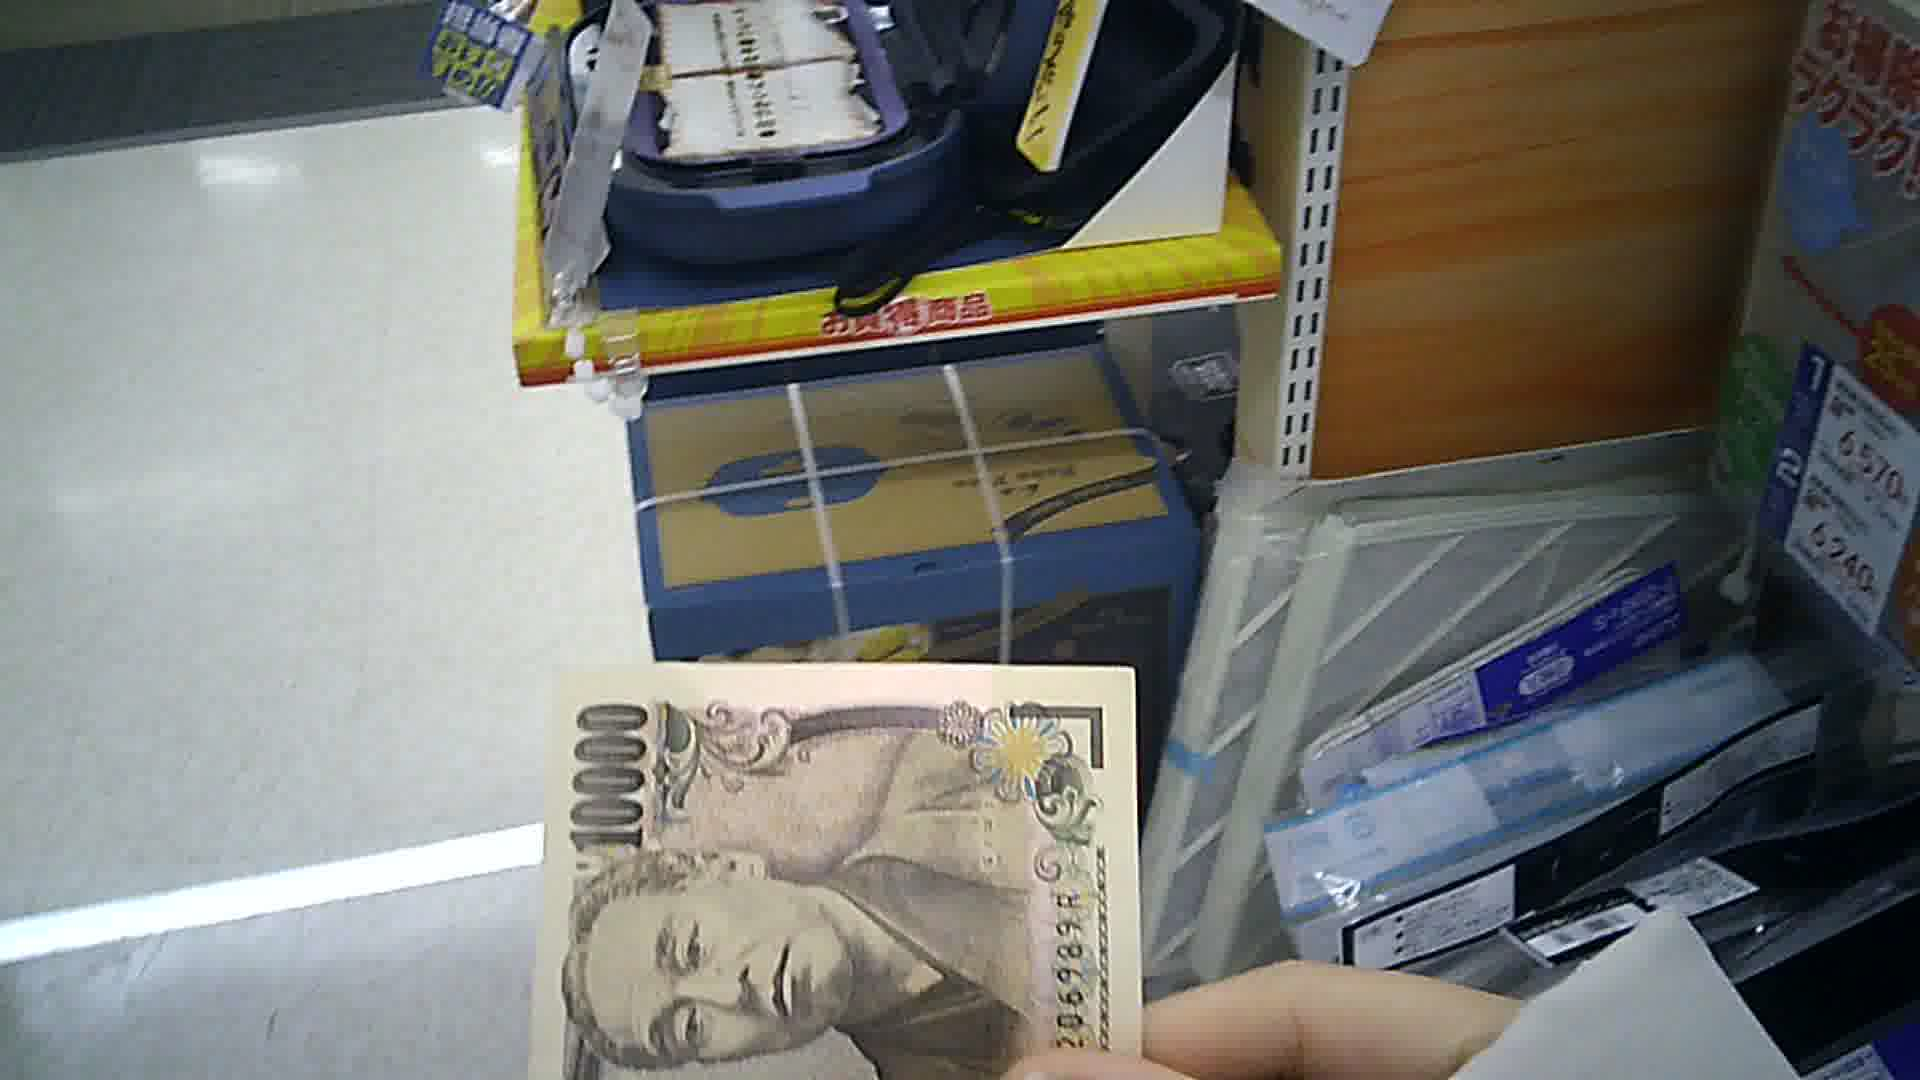10,000 Yen: (498, 647, 1129, 1079)
